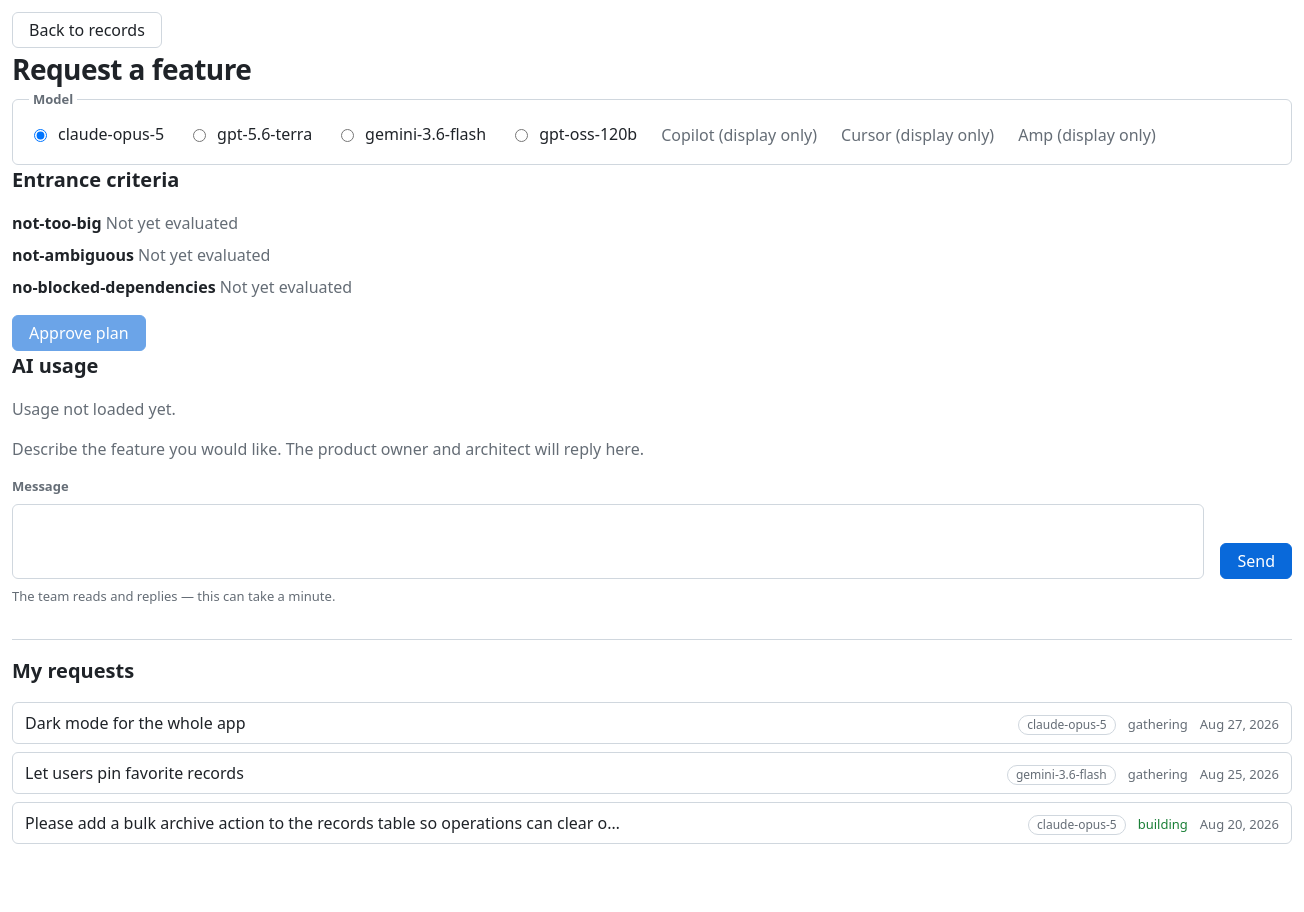
it: DAN-74 tester — reopening a building session › opens straight into the build DAG and polls with exactly that promptId
This screenshot has width=1304, height=912.
Click the 6th button: {"x": 322, "y": 822} [12,802,1292,844]
Wait 5000 ms
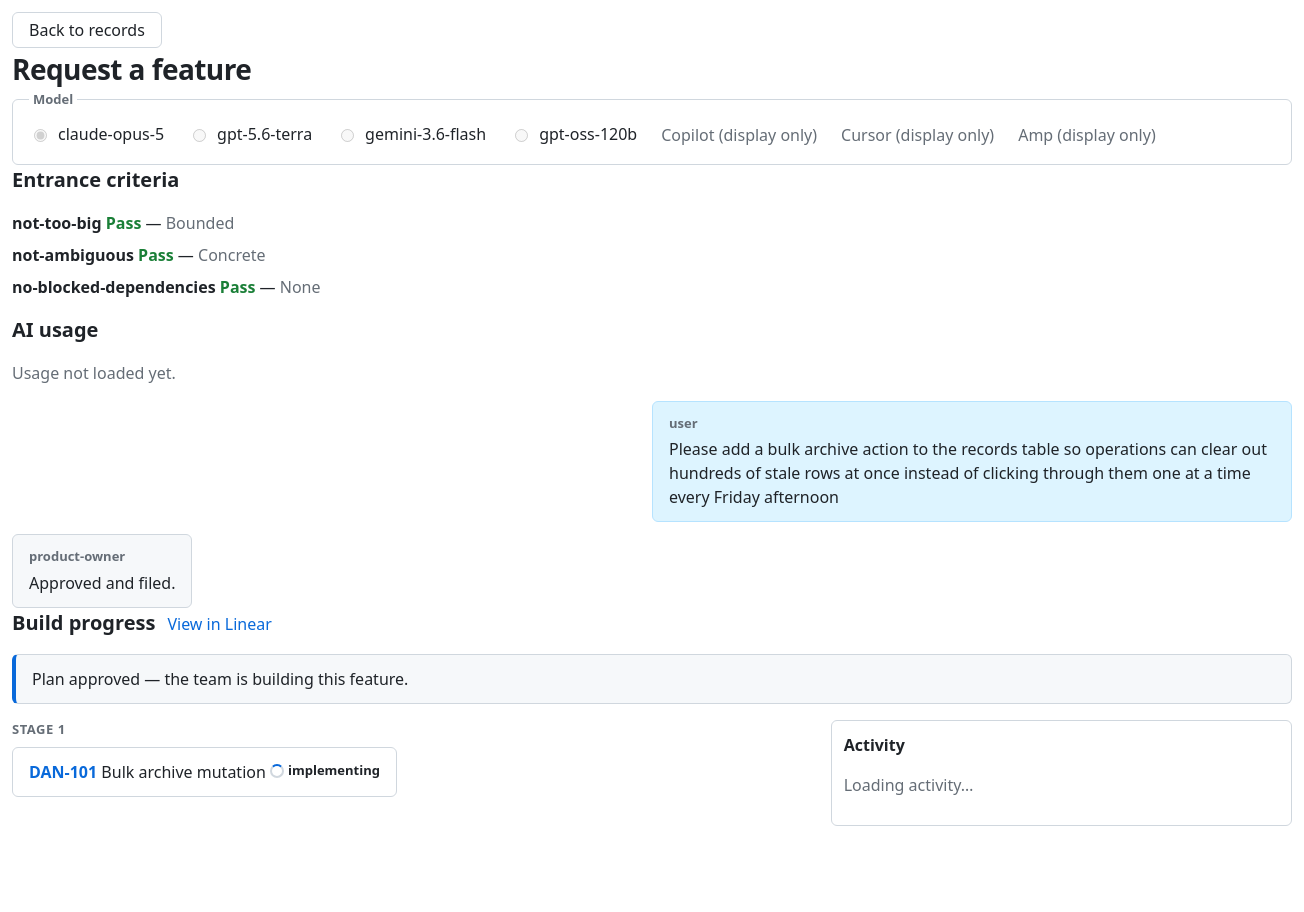
Check: the element "Build progress" is shown, box [12,608,1292,826]
Check: the link "DAN-101" is shown, box [29,761,97,783]
Check: the label labelled "Message" is gone
